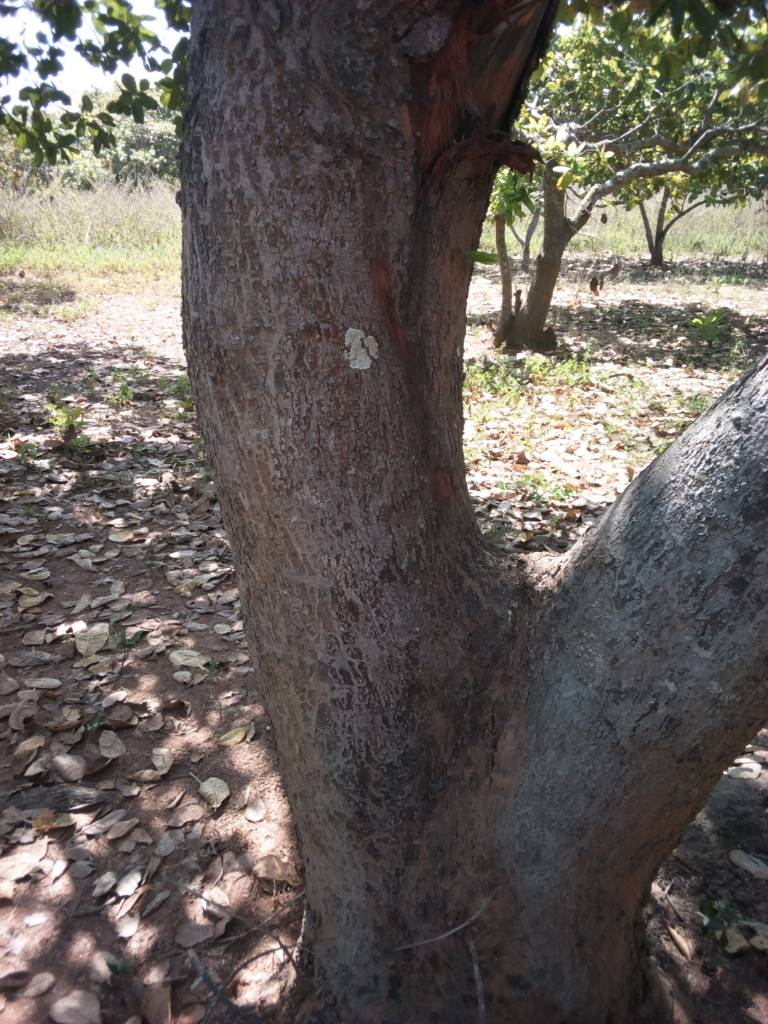Termites: (215, 41, 475, 782)
